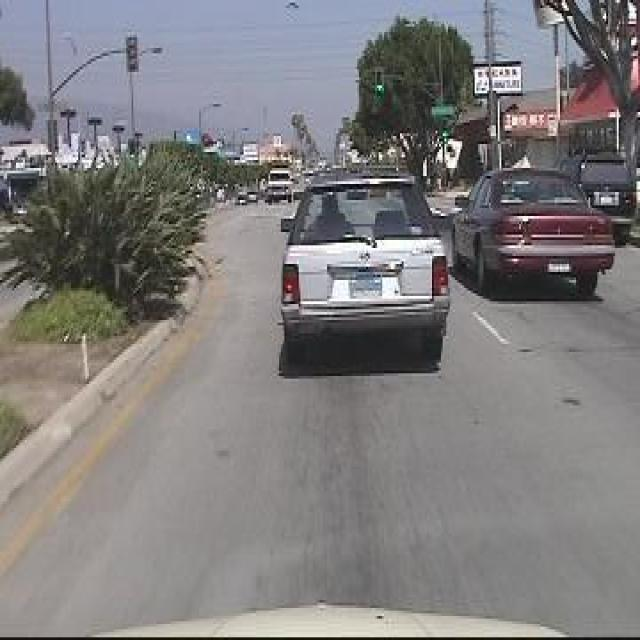car_back: (278, 164, 452, 367), (450, 162, 620, 304), (569, 144, 640, 250)
car_front: (263, 164, 297, 210)
